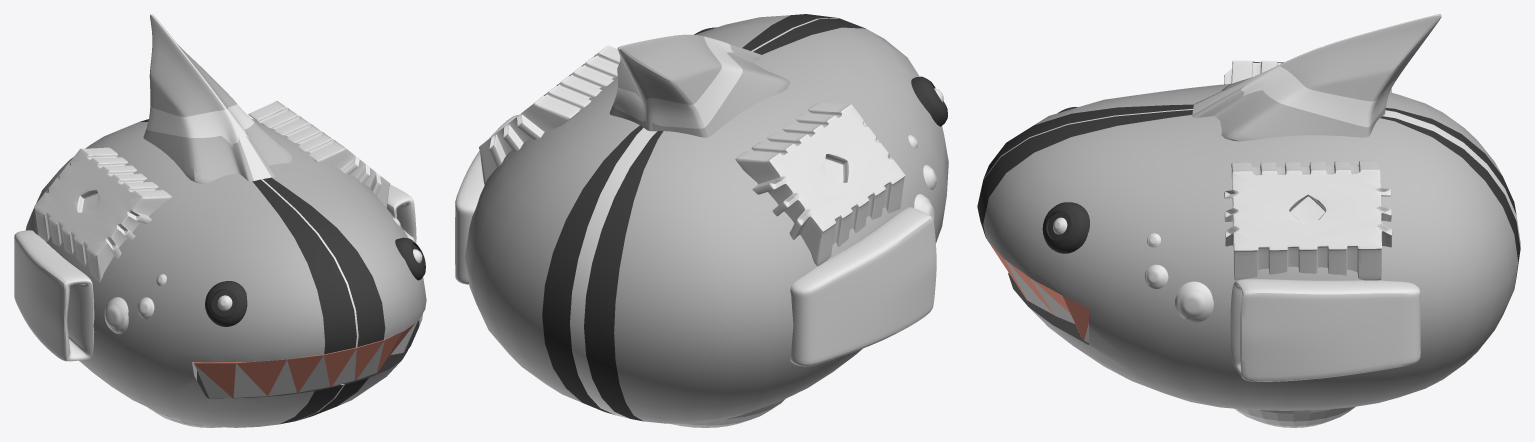
The model's file is Shark mobe unit.fbx.
3 views of the same model, side by side, from view 1: azimuth 30°, elevation 25°; view 2: azimuth 150°, elevation 25°; view 3: azimuth 270°, elevation 25° (orthographic). The views are drawn at different scales.
Visible parts, largest first — view 1: Sphere.008, Cube.006, Cube.007, Cube.005, zab, Sphere.011, Sphere.012; view 2: Sphere.008, Cube.006, Cube.005, Cube.007, Sphere.011, Sphere.009, Sphere.012; view 3: Sphere.008, Cube.006, Cube.005, Cube.007, zab, Sphere.011, Sphere.012, Sphere.009.
Boxes of the visible parts, x1,y1,x2,y2 form: Sphere.008: [25, 118, 426, 427]; Cube.006: [34, 101, 390, 282]; Cube.007: [143, 14, 293, 183]; Cube.005: [14, 184, 416, 361]; zab: [194, 322, 417, 398]; Sphere.011: [205, 237, 425, 326]; Sphere.012: [104, 217, 415, 333]; Sphere.008: [465, 14, 948, 423]; Cube.006: [479, 45, 905, 266]; Cube.005: [455, 115, 936, 366]; Cube.007: [609, 34, 789, 137]; Sphere.011: [694, 27, 947, 126]; Sphere.009: [670, 399, 784, 427]; Sphere.012: [908, 135, 936, 222]; Sphere.008: [977, 84, 1520, 410]; Cube.006: [1224, 60, 1392, 280]; Cube.005: [1230, 279, 1420, 381]; Cube.007: [1192, 14, 1441, 141]; zab: [988, 241, 1088, 342]; Sphere.011: [1042, 107, 1089, 253]; Sphere.012: [1144, 233, 1213, 322]; Sphere.009: [1234, 406, 1355, 427].
Bounding box in the file's own units: 342 × 329 × 405.
